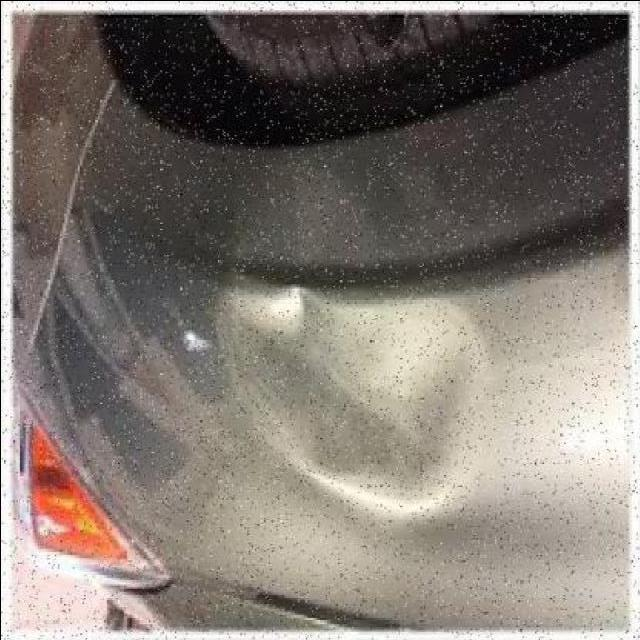fender-dent: (101, 44, 625, 628)
